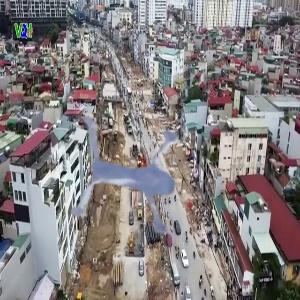drone: (41, 82, 241, 282)
